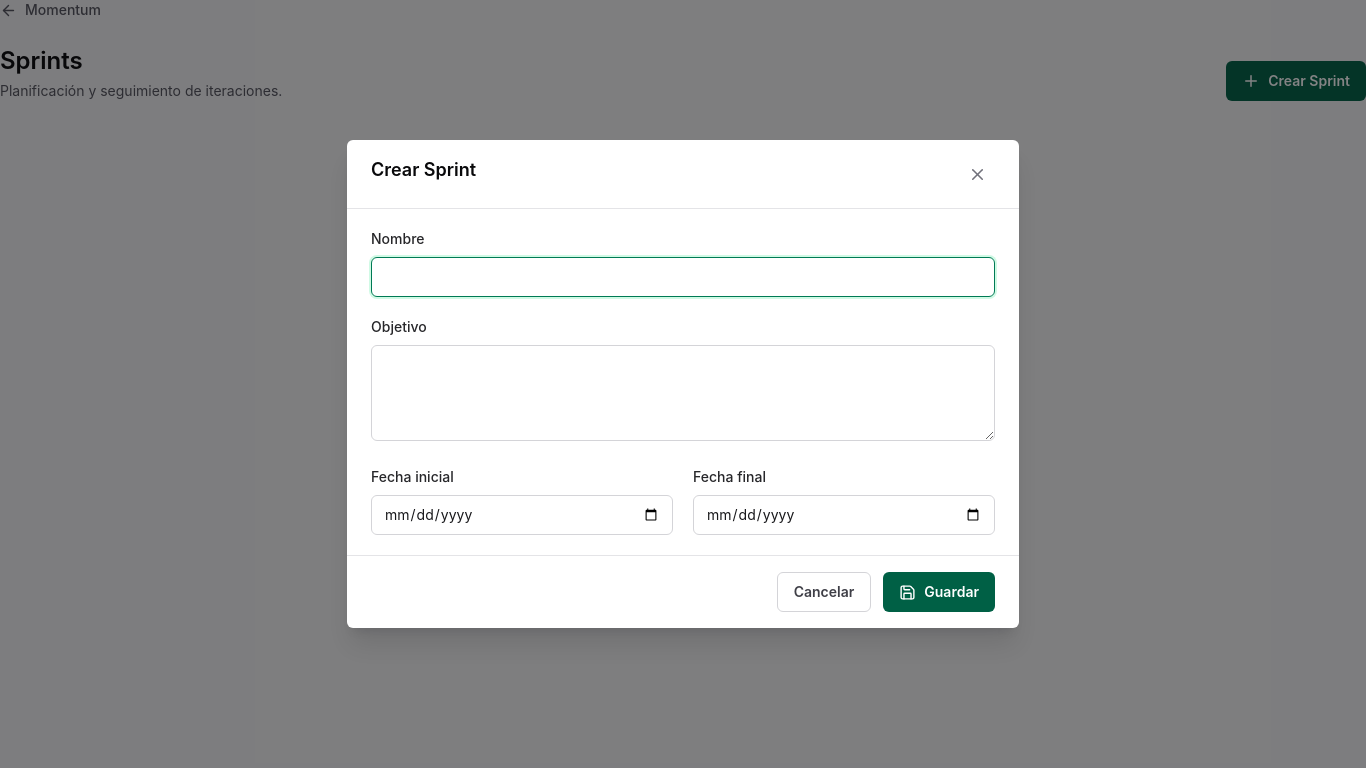
Scenario: Sprints page › shows Laravel validation errors when Sprint creation is rejected
Type "Sprint duplicado" into the field labelled "Nombre".
click(683, 277); type("Sprint duplicado")  # box [371,257,995,297]
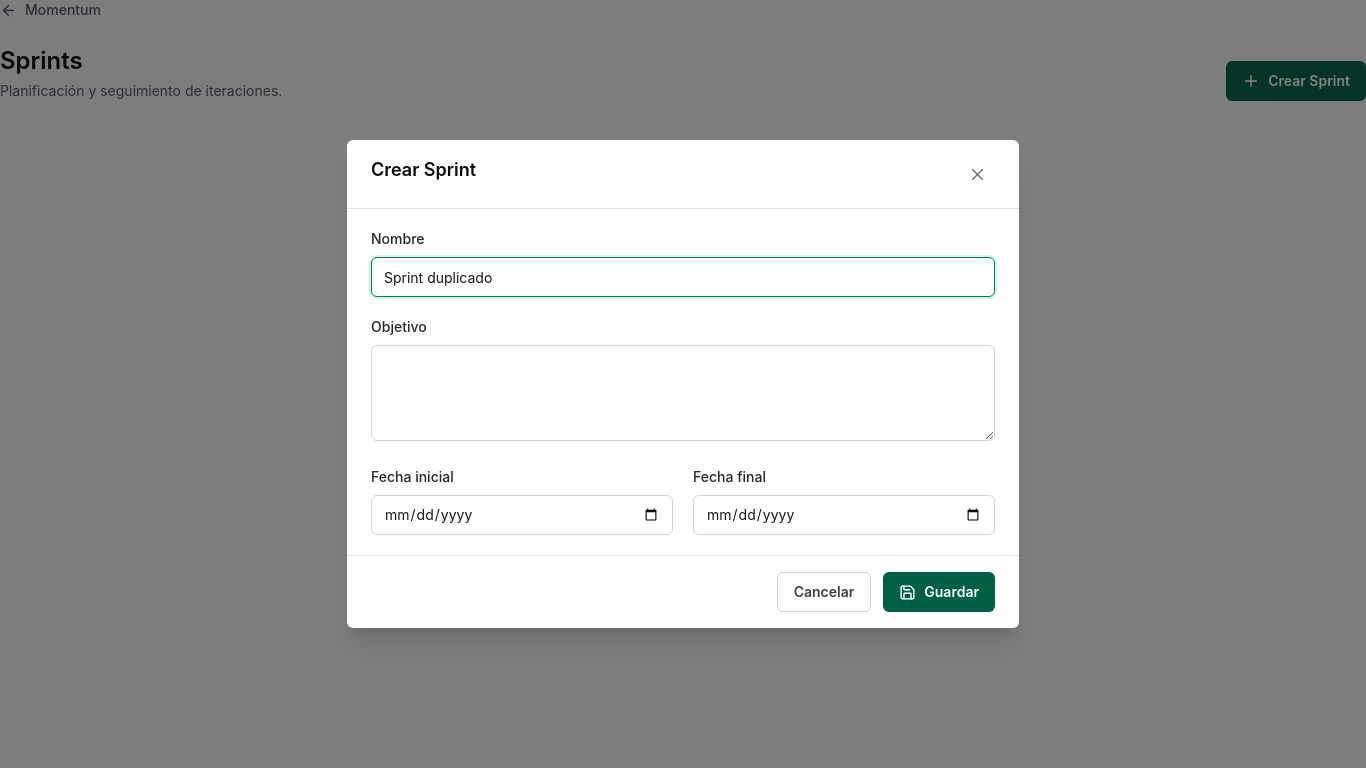
Click the button "Guardar".
click(939, 592)  # box [883,572,995,612]
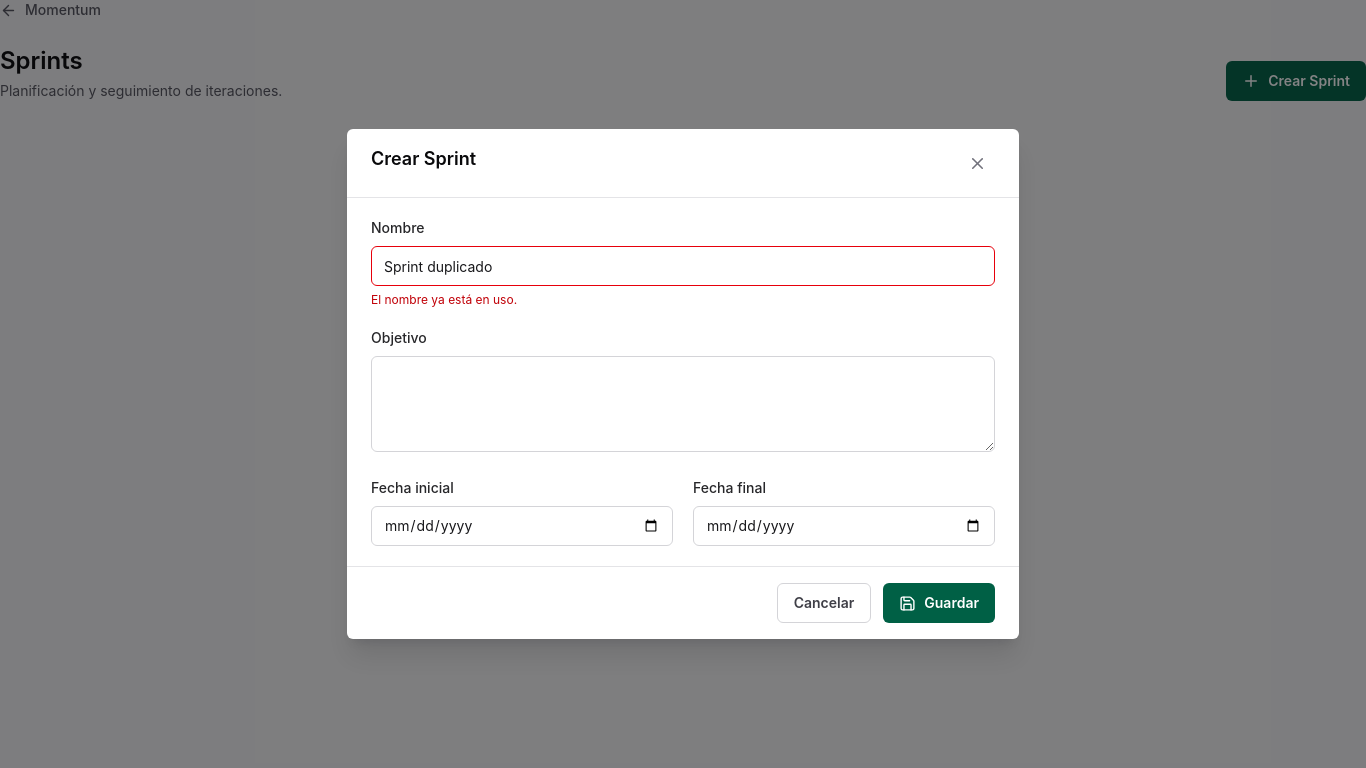
Now the text "El nombre ya está en uso." is shown, box [371,292,517,307]
